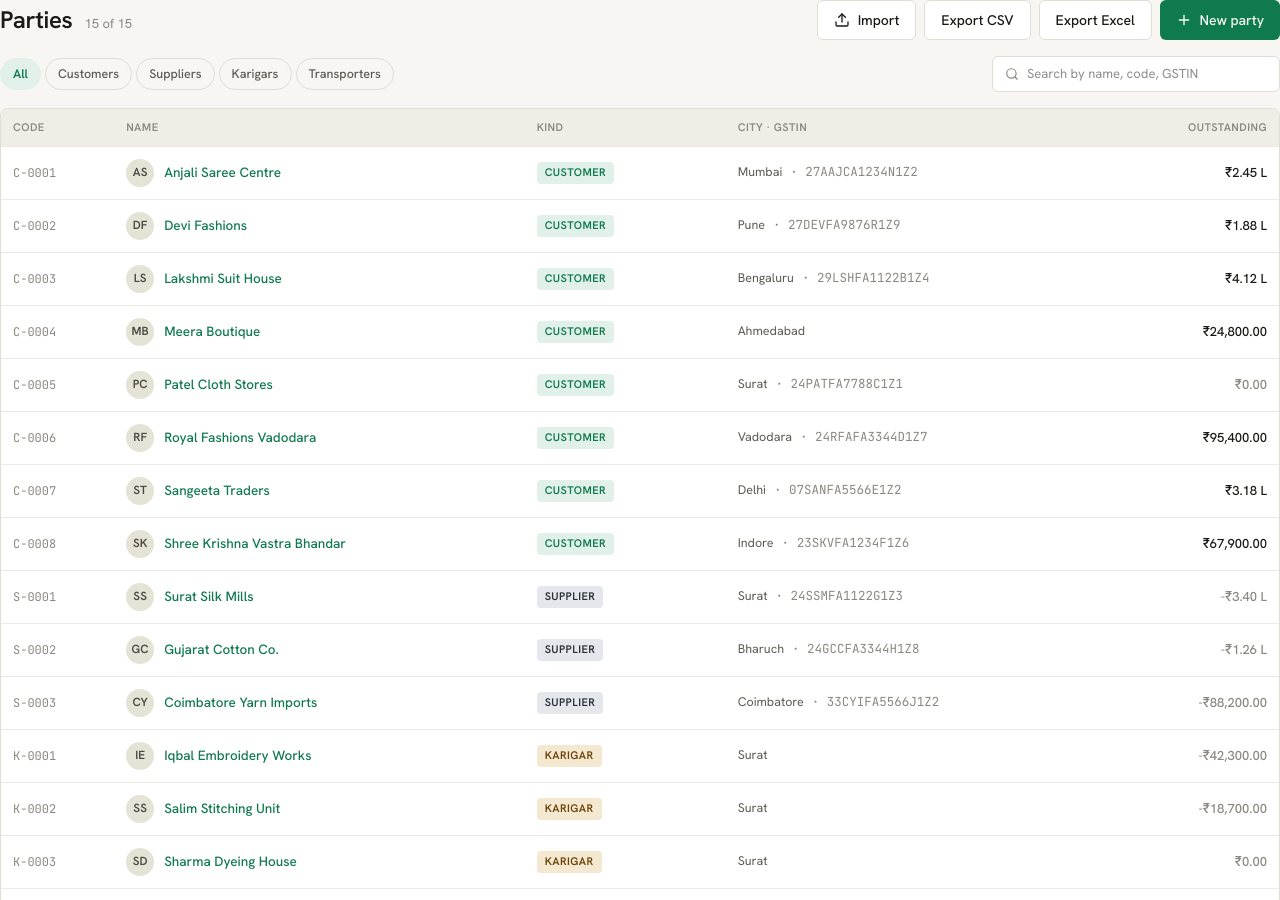
Test case: Parties list + detail › filters parties by Suppliers pill
Expected: the text "Anjali Saree Centre" is shown, [164,162,281,183]
What coordinates should you click on to do the following:
click the button "Suppliers"
I would click on:
 (175, 74)
Its box is [136,58,215,90].
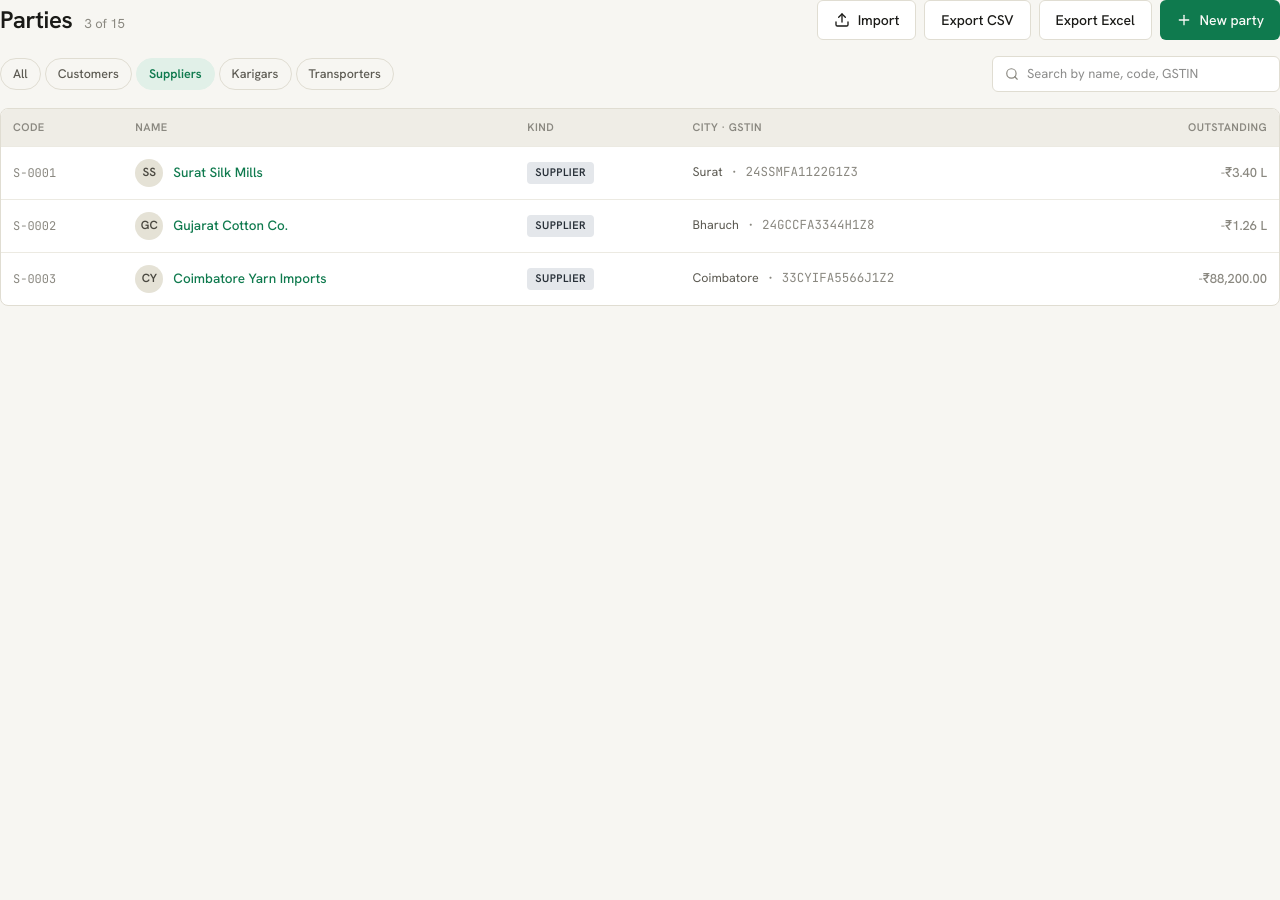
Expected: the link "Anjali Saree Centre" is gone
